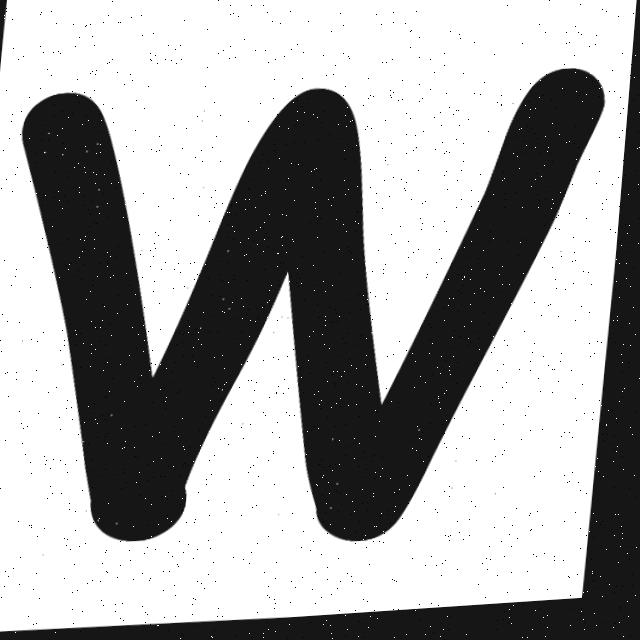W: (24, 77, 606, 546)
